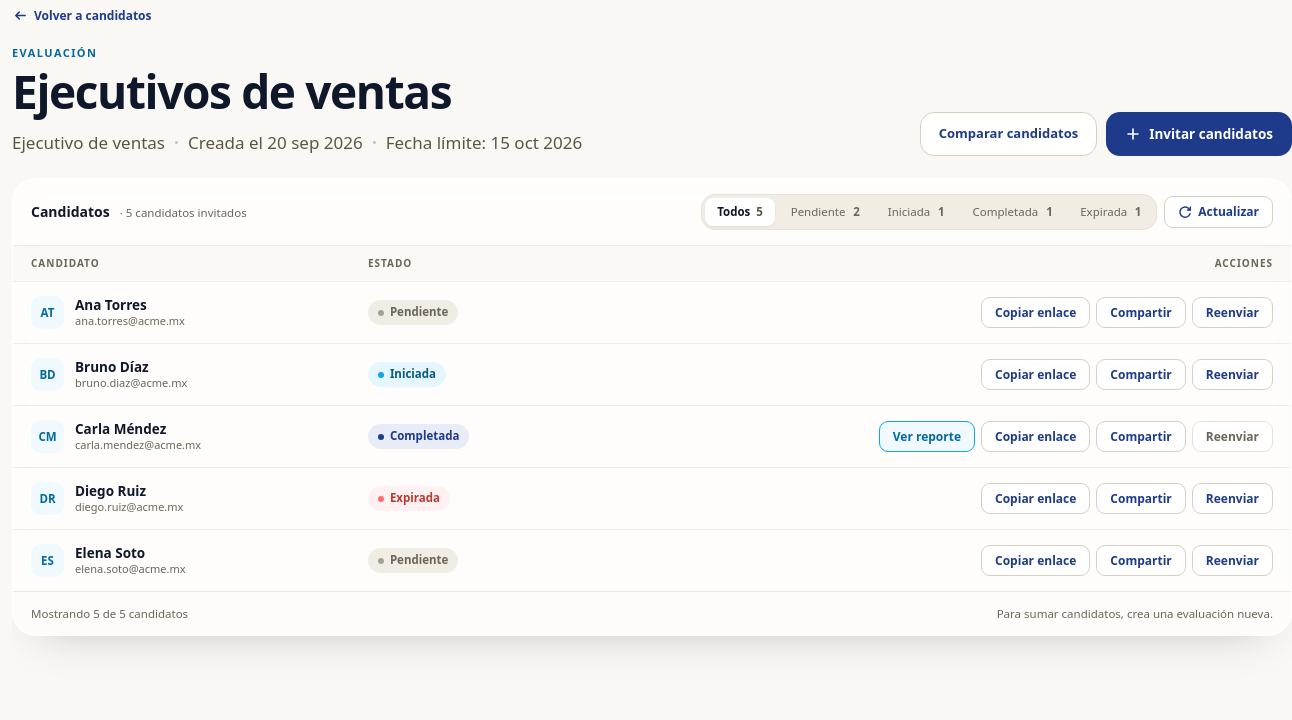
EvaluacionDetallePage · reenviar › un 409 se muestra inline en la fila, sin toast
Click the button named "Reenviar la invitación a Bruno Díaz".
click(1232, 375)  # box [1192,359,1273,390]
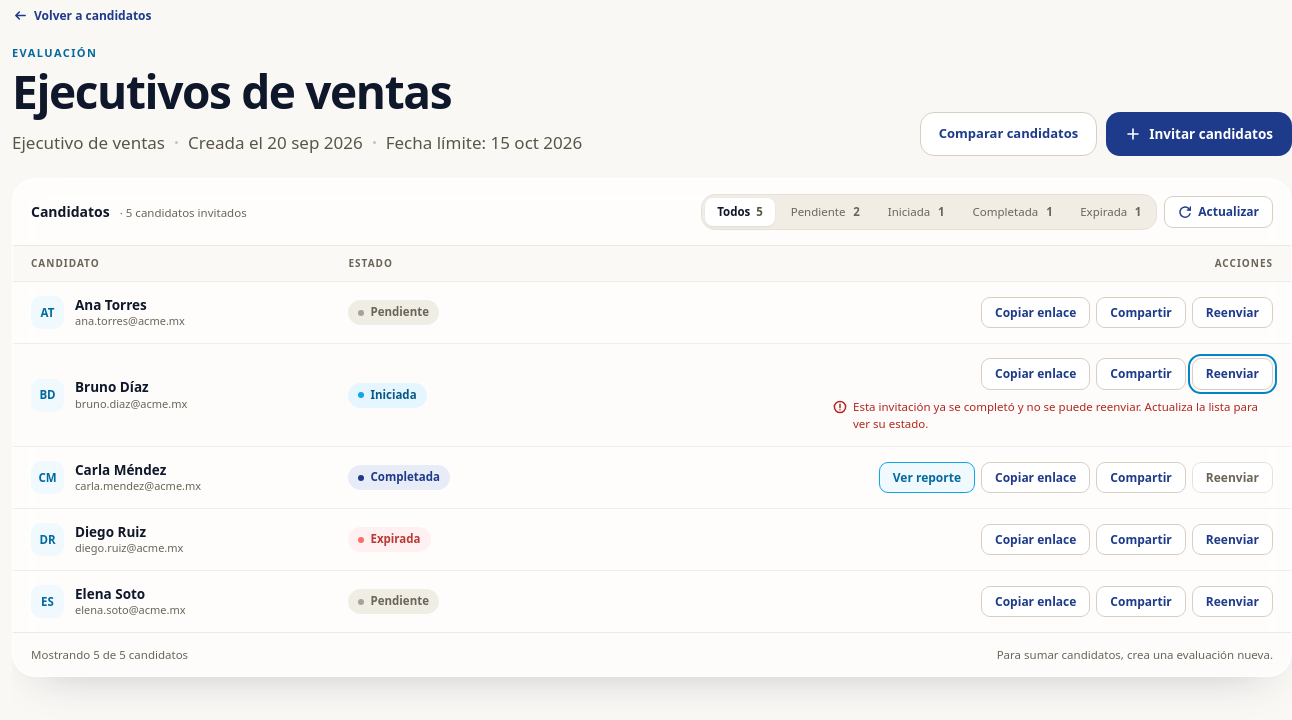
Expected: the message shows "Esta invitación ya se completó y no se puede reenviar.", [853,399,1258,431]
